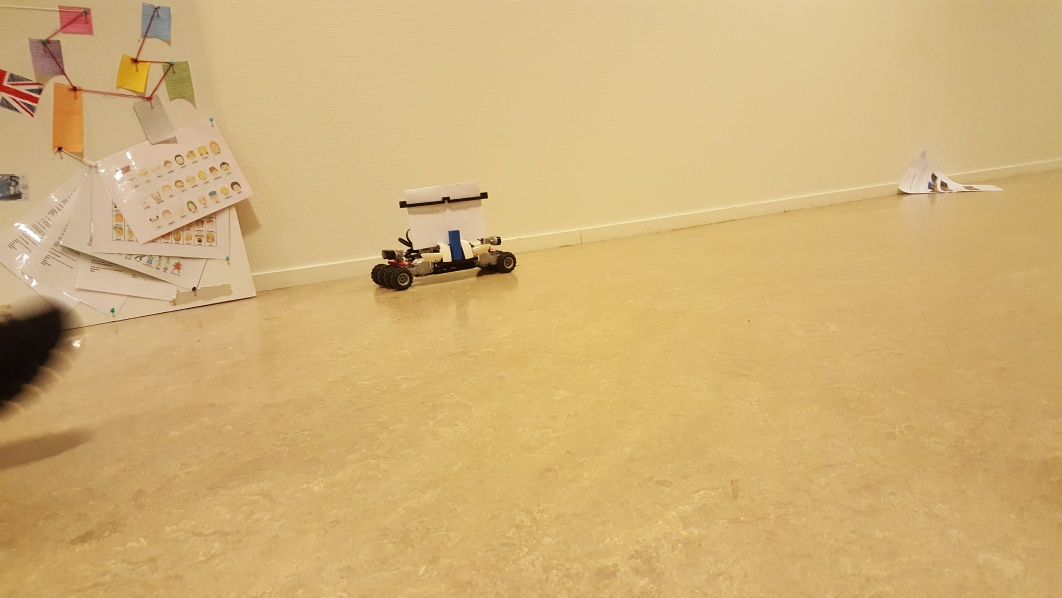car: (371, 184, 518, 291)
